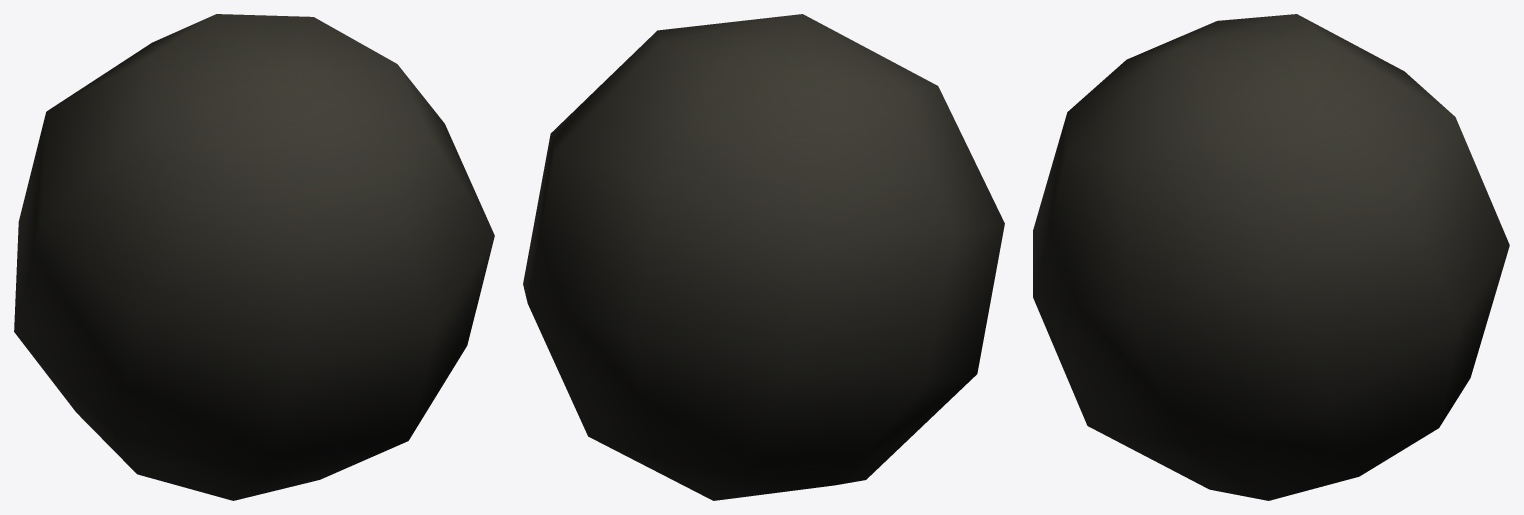
File: kula.fbx
3 views of the same model, side by side, from view 1: azimuth 30°, elevation 25°; view 2: azimuth 150°, elevation 25°; view 3: azimuth 270°, elevation 25° (orthographic).
Parts seen in each view (by area): view 1: kula; view 2: kula; view 3: kula.
Boxes of the visible parts, x1,y1,x2,y2 form: kula: (14,14,494,500); kula: (523,14,1004,500); kula: (1033,14,1509,500).
Bounding box in the file's own units: 59.19 × 60.64 × 61.42.
Materials: 1 (1 with a texture image).
